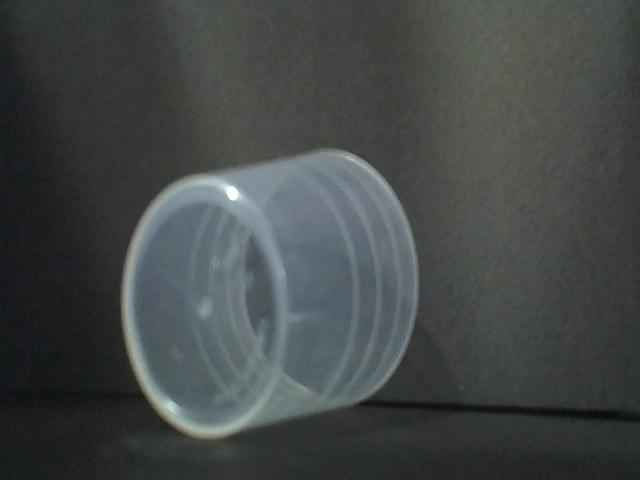cup: (117, 148, 426, 444)
